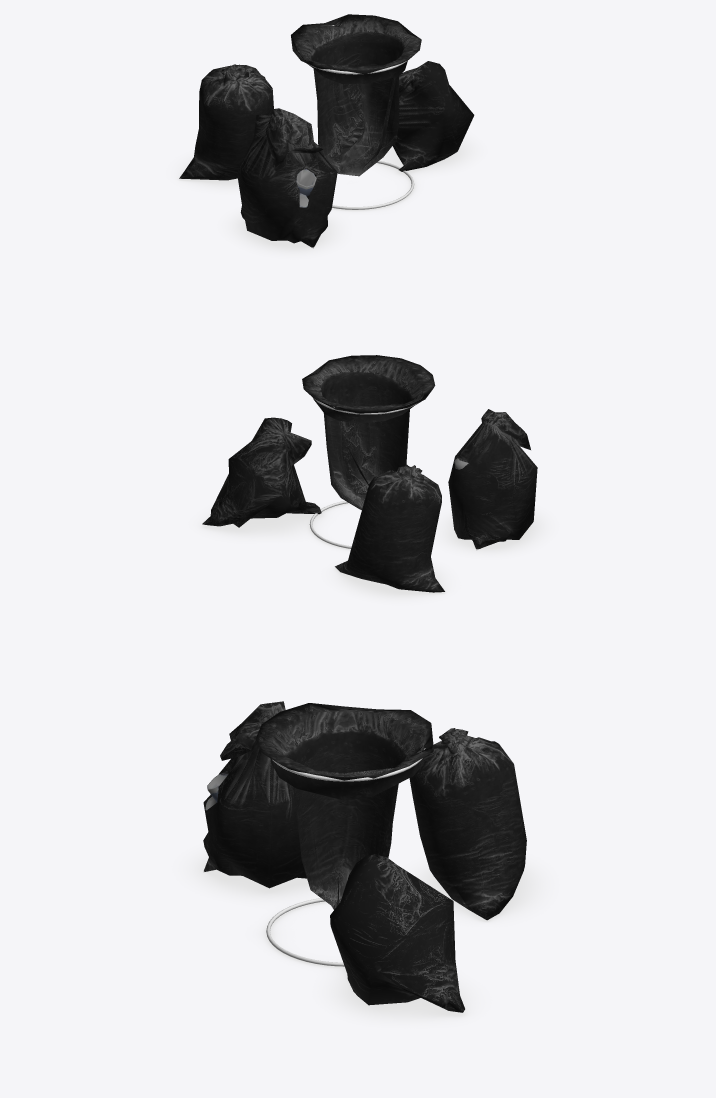
The model's file is trash_bags.glb.
3 renders of one model, top to bottom at view 1: azimuth 30°, elevation 25°; view 2: azimuth 150°, elevation 25°; view 3: azimuth 270°, elevation 25°, orthographic. The views are drawn at different scales.
Visible parts, largest first — view 1: Cylinder_Bag04_0, Plane_Bag03_0, Plane.002_Bag00_0, Plane.004_Bag02_0, Plane.003_Shadow_0, BezierCircle_MetalHolder_0; view 2: Cylinder_Bag04_0, Plane_Bag03_0, Plane.002_Bag00_0, Plane.004_Bag02_0, Plane.003_Shadow_0, BezierCircle_MetalHolder_0; view 3: Cylinder_Bag04_0, Plane.002_Bag00_0, Plane.004_Bag02_0, Plane_Bag03_0, Plane.003_Shadow_0, BezierCircle_MetalHolder_0.
Boxes of the visible parts, x1,y1,x2,y2 form: Cylinder_Bag04_0: (291, 14, 421, 176); Plane_Bag03_0: (237, 108, 337, 247); Plane.002_Bag00_0: (179, 64, 273, 180); Plane.004_Bag02_0: (393, 61, 474, 171); Plane.003_Shadow_0: (175, 135, 478, 255); BezierCircle_MetalHolder_0: (308, 25, 414, 209); Cylinder_Bag04_0: (302, 355, 435, 509); Plane_Bag03_0: (448, 409, 537, 549); Plane.002_Bag00_0: (335, 464, 444, 592); Plane.004_Bag02_0: (202, 417, 321, 527); Plane.003_Shadow_0: (197, 503, 549, 601); BezierCircle_MetalHolder_0: (309, 399, 417, 548); Cylinder_Bag04_0: (255, 703, 433, 909); Plane.002_Bag00_0: (409, 728, 526, 920); Plane.004_Bag02_0: (330, 854, 464, 1012); Plane_Bag03_0: (203, 701, 306, 888); Plane.003_Shadow_0: (184, 849, 547, 1023); BezierCircle_MetalHolder_0: (266, 748, 425, 966).
Bounding box in the file's own units: 1586 × 504 × 1586.
6 materials, 5 textured.
